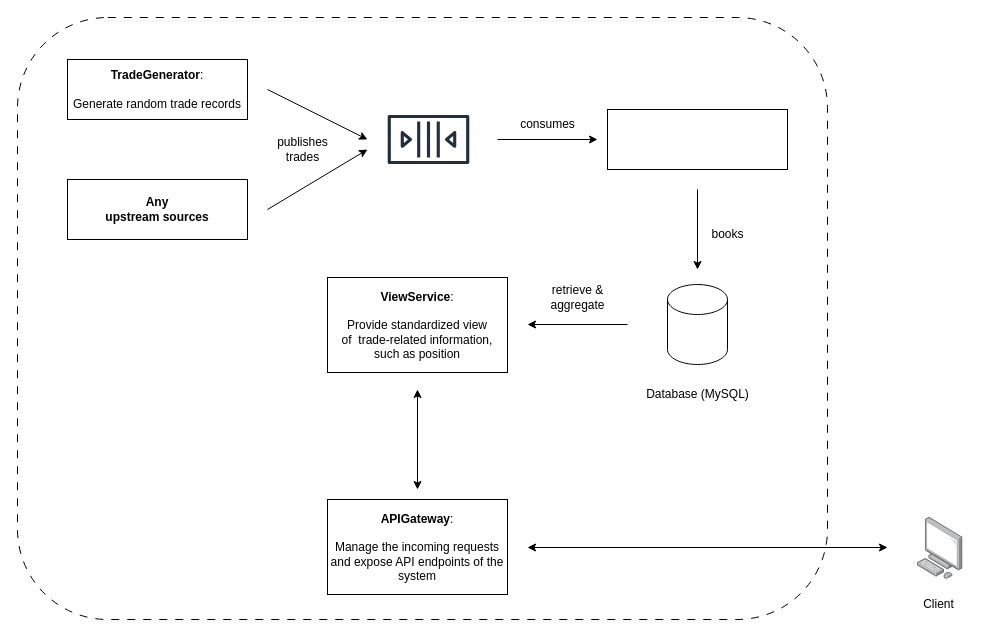
Some shapes in this 981 by 637 pixel diagram are drawn without their labels. Here are the shapes that lost their labels. From the top down, the centre of each, then its label:
At point (428, 139): "Queue (ActiveMQ)".
At point (697, 139): "BookingService : Book trades to the database".
